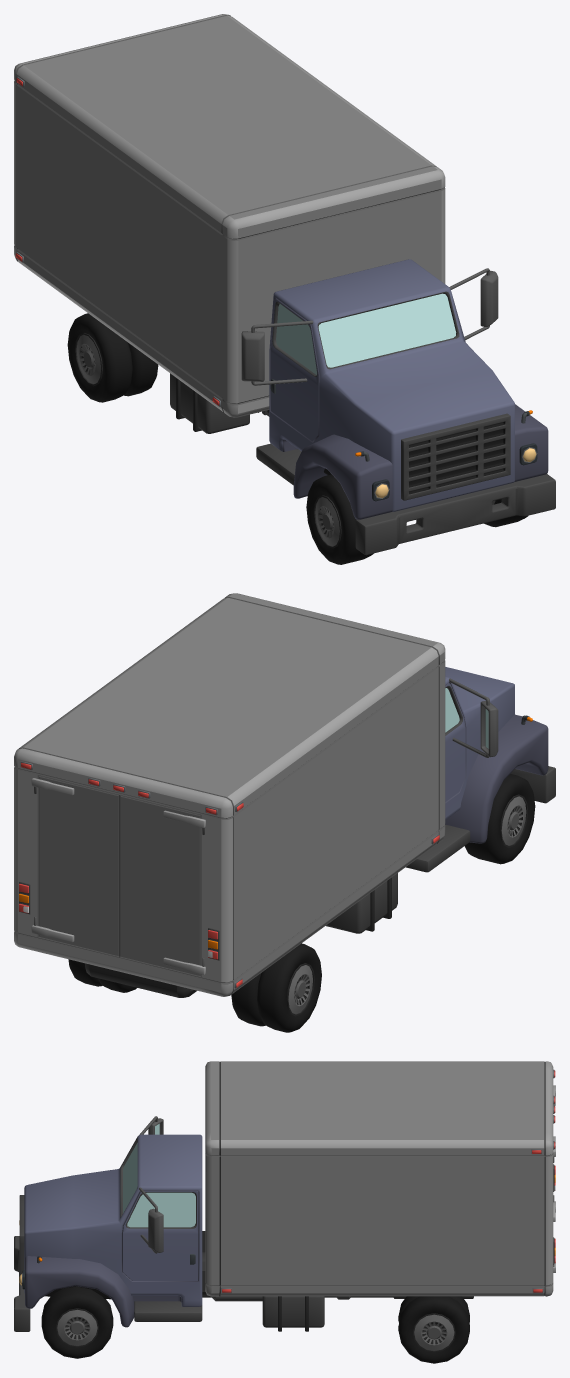
Rendered from SM_Vehicles_Truck_01_V1.fbx.
3 views of the same model, one above another, from view 1: azimuth 30°, elevation 25°; view 2: azimuth 150°, elevation 25°; view 3: azimuth 270°, elevation 25° (orthographic). The views are drawn at different scales.
Parts seen in each view (by area): view 1: SM_Vehicles_Truck_01_V1, SM_Vehicles_Truck_01_RR, SM_Vehicles_Truck_01_FR; view 2: SM_Vehicles_Truck_01_V1, SM_Vehicles_Truck_01_RR, SM_Vehicles_Truck_01_FR, SM_Vehicles_Truck_01_RL; view 3: SM_Vehicles_Truck_01_V1, SM_Vehicles_Truck_01_RL, SM_Vehicles_Truck_01_FL.
Part boxes in pixels (left/top/right/bottom): SM_Vehicles_Truck_01_V1: left=14, top=14, right=555, bottom=555; SM_Vehicles_Truck_01_RR: left=67, top=313, right=158, bottom=402; SM_Vehicles_Truck_01_FR: left=306, top=474, right=373, bottom=564; SM_Vehicles_Truck_01_V1: left=14, top=593, right=555, bottom=997; SM_Vehicles_Truck_01_RR: left=231, top=943, right=321, bottom=1032; SM_Vehicles_Truck_01_FR: left=464, top=774, right=535, bottom=864; SM_Vehicles_Truck_01_RL: left=68, top=959, right=136, bottom=992; SM_Vehicles_Truck_01_V1: left=14, top=1061, right=555, bottom=1331; SM_Vehicles_Truck_01_RL: left=398, top=1296, right=469, bottom=1363; SM_Vehicles_Truck_01_FL: left=41, top=1286, right=113, bottom=1358.
Size of the model in its own units: 2.76 by 2.93 by 6.44.
